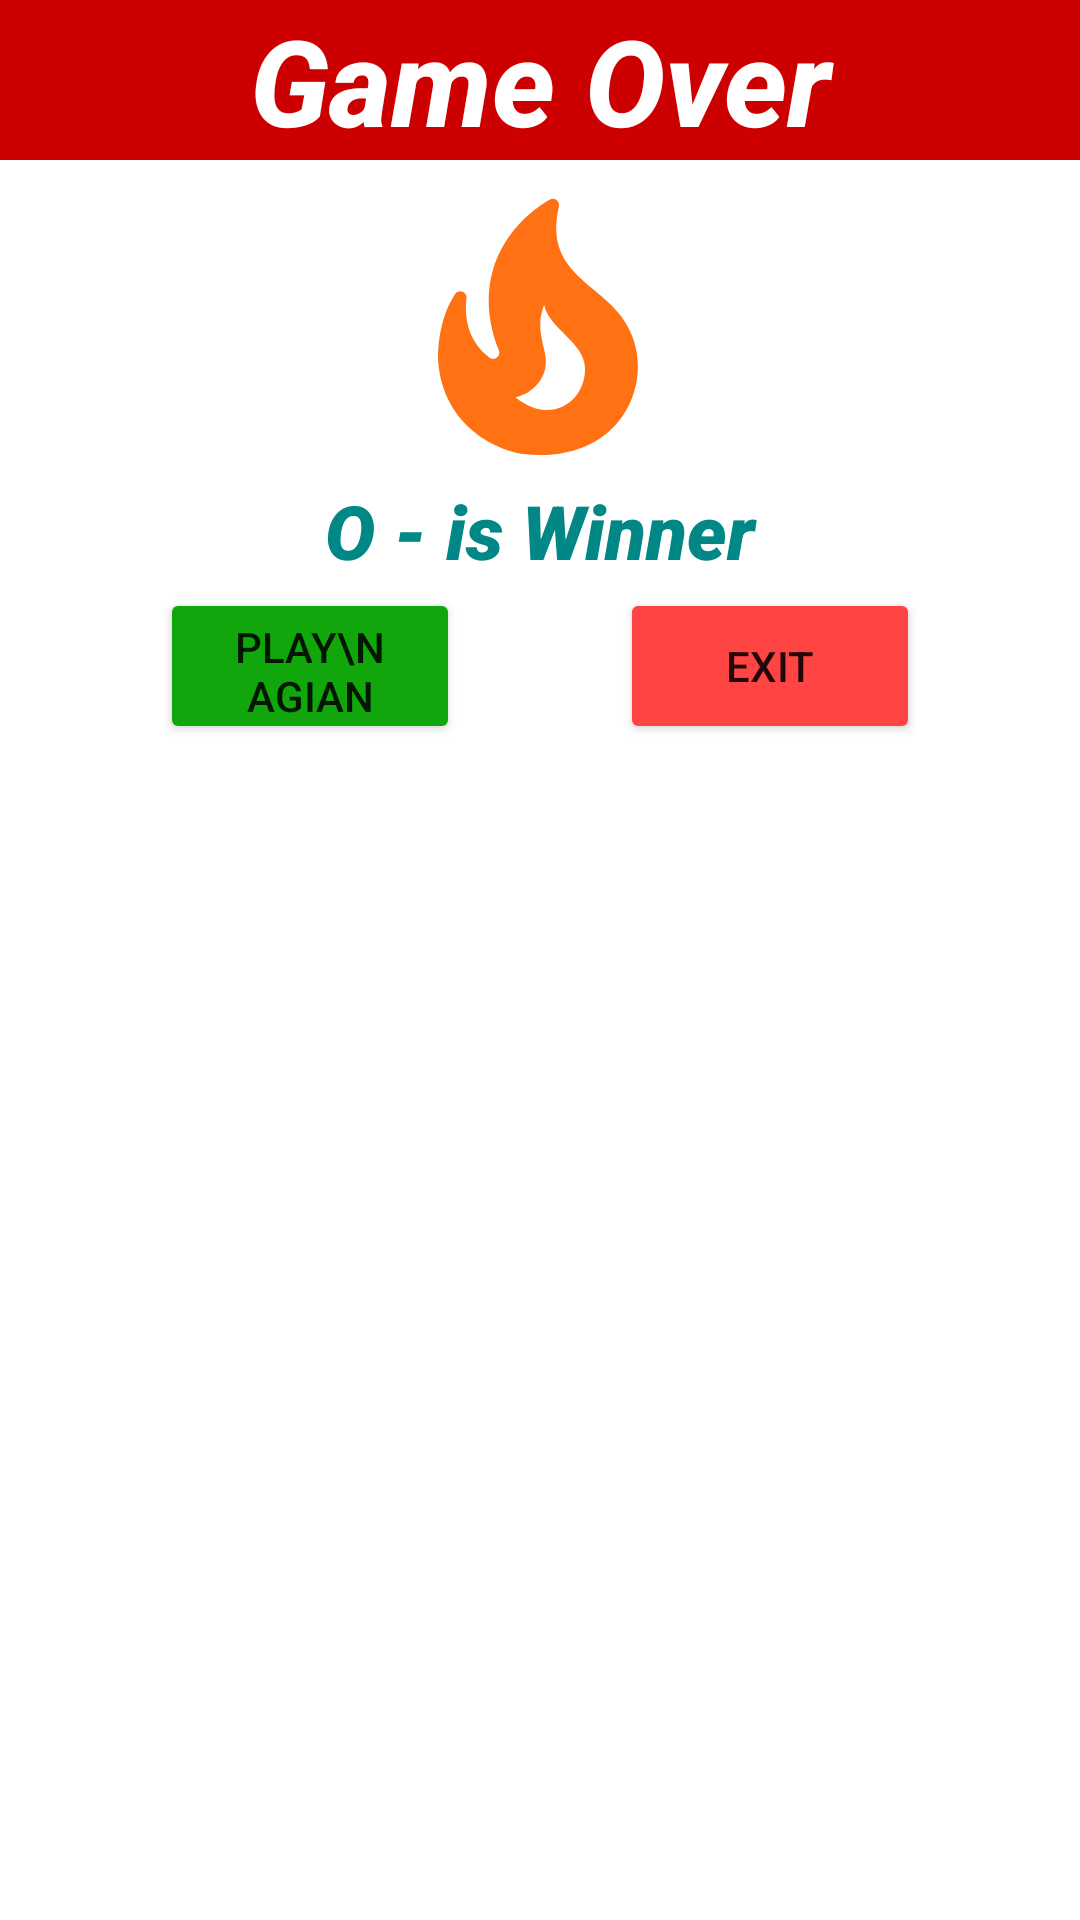

Locate icon controls on the screen. Image size 1080 × 1920, boxes as (x1, y1, x2, y2).
fire: (438, 198, 638, 455)
